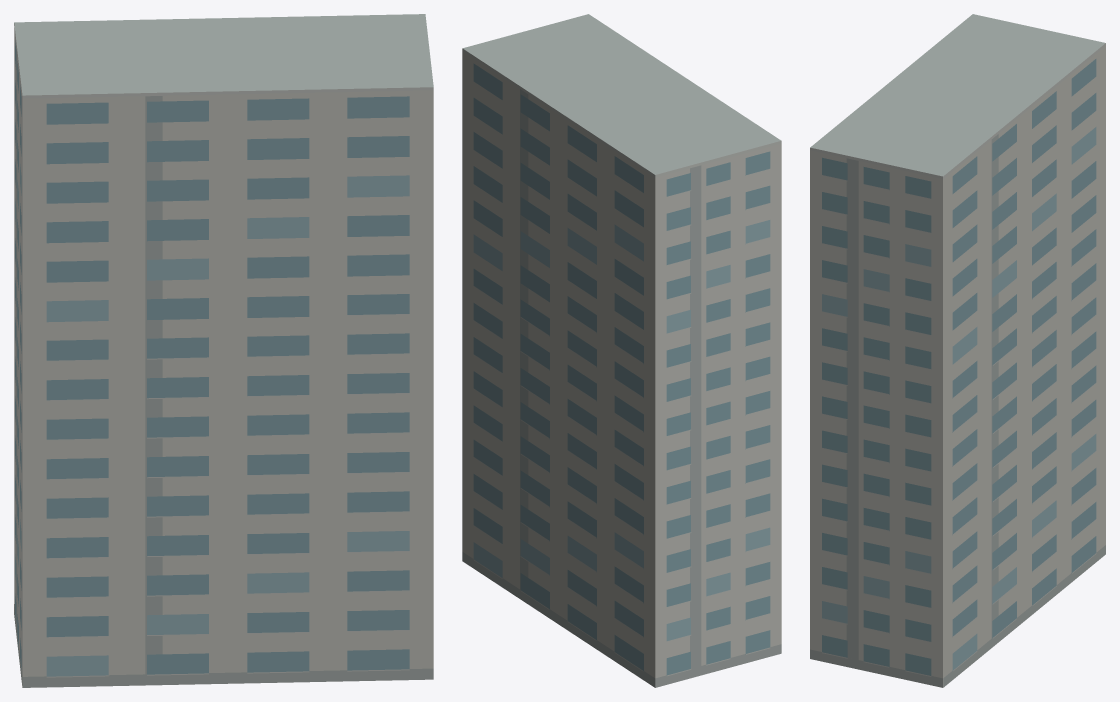
File: residential-e06227ab-7a75-4ae7-9d3c-ab065d444e8d.glb
The picture shows the model from 3 angles, left to right: view 1: azimuth 30°, elevation 25°; view 2: azimuth 150°, elevation 25°; view 3: azimuth 270°, elevation 25°; orthographic projection. The views are drawn at different scales.
Visible parts, largest first — view 1: residential-e06227ab-7a75-4ae7-9d3c-ab065d444e8d.tmp; view 2: residential-e06227ab-7a75-4ae7-9d3c-ab065d444e8d.tmp; view 3: residential-e06227ab-7a75-4ae7-9d3c-ab065d444e8d.tmp.
Boxes of the visible parts, x1=… form: residential-e06227ab-7a75-4ae7-9d3c-ab065d444e8d.tmp: x1=14, y1=14, x2=433, y2=687; residential-e06227ab-7a75-4ae7-9d3c-ab065d444e8d.tmp: x1=462, y1=14, x2=781, y2=687; residential-e06227ab-7a75-4ae7-9d3c-ab065d444e8d.tmp: x1=810, y1=14, x2=1105, y2=687.
Size of the model in its own units: 30.68 by 45 by 23.6.
